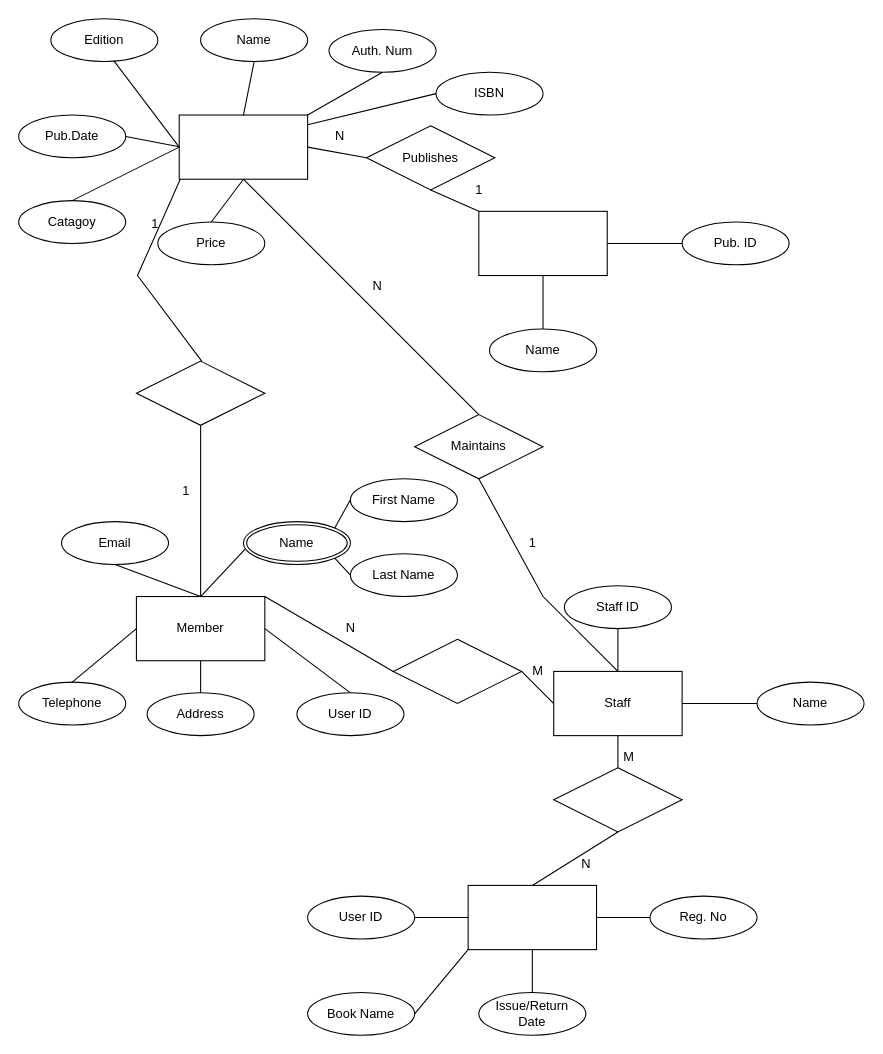
Some shapes in this 883 by 1054 pixel diagram are drawn without their labels. Here are the shapes that lost their labels. From the top down, the centre of each, then its label:
At (x=243, y=146): "Book".
At (x=542, y=243): "Publishers".
At (x=200, y=392): "Issues/Returns".
At (x=457, y=671): "Keeps record of".
At (x=617, y=799): "Manages".
At (x=532, y=917): "Reports".
